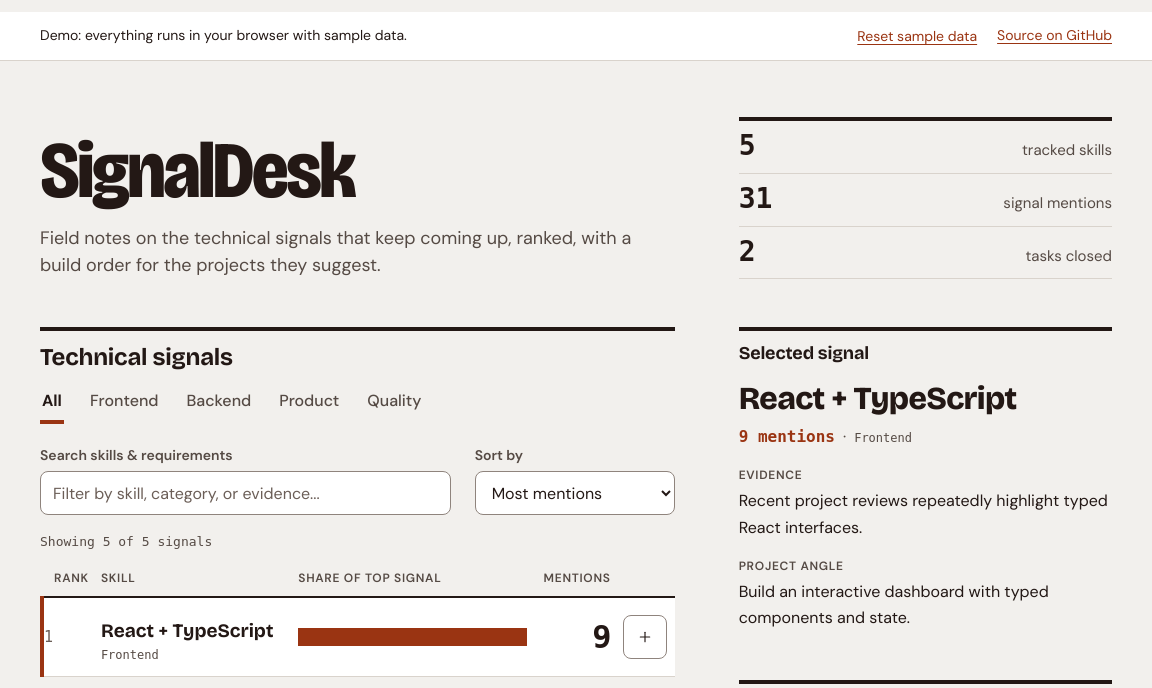
Scenario: SignalDesk › reports how many signals match the current filters
The image size is (1152, 688).
Expected: the text "Showing 5 of 5 signals" is shown, [40, 534, 212, 549]
Type "testing" into the search field labelled "Search skills & requirements".
click(245, 493); type("testing")  # box [40, 471, 451, 515]
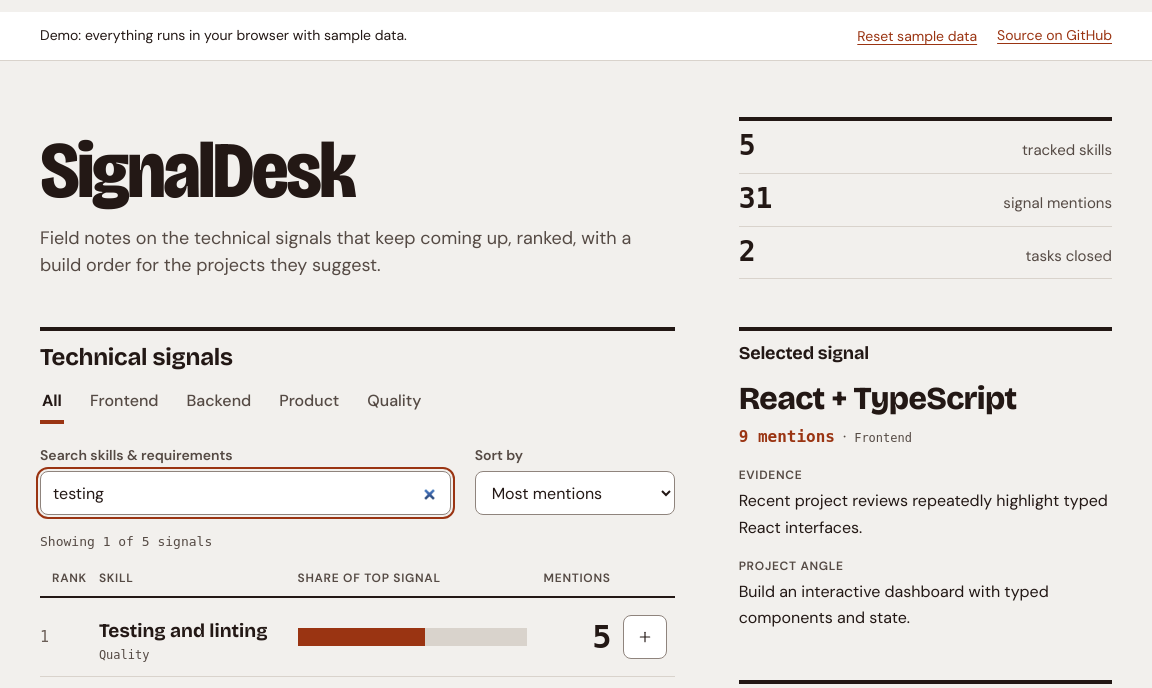
Expected: the text "Showing 1 of 5 signals" is shown, [40, 534, 212, 549]
